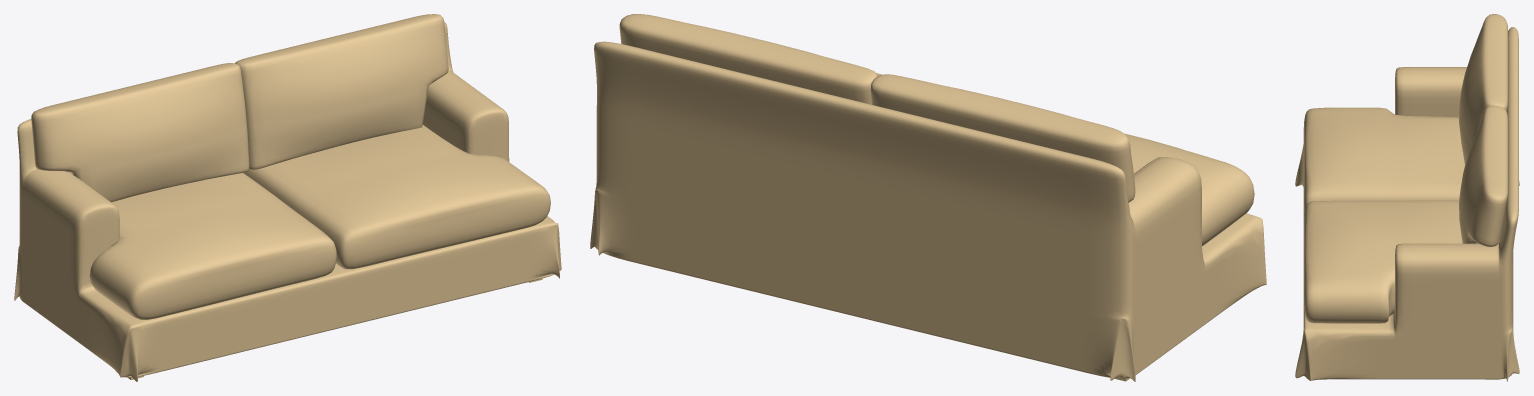
The model's file is IKEA-Ekekog_3_seat_Sofa-3D.DAE.
The picture shows the model from 3 angles, left to right: view 1: azimuth 30°, elevation 25°; view 2: azimuth 150°, elevation 25°; view 3: azimuth 270°, elevation 25°; orthographic projection. The views are drawn at different scales.
Visible parts, largest first — view 1: Box09, Box08, Box06, Box07, Box02; view 2: Box09, Box02, Box07, Box06; view 3: Box09, Box06, Box08, Box07, Box02.
Part boxes in pixels (x1=…): Box09: x1=14, y1=22, x2=561, y2=381; Box08: x1=243, y1=124, x2=550, y2=269; Box06: x1=89, y1=173, x2=336, y2=319; Box07: x1=235, y1=14, x2=448, y2=169; Box02: x1=31, y1=63, x2=249, y2=202; Box09: x1=590, y1=41, x2=1266, y2=381; Box02: x1=870, y1=74, x2=1135, y2=202; Box07: x1=619, y1=14, x2=878, y2=104; Box06: x1=1124, y1=133, x2=1254, y2=245; Box09: x1=1295, y1=27, x2=1519, y2=381; Box06: x1=1303, y1=107, x2=1464, y2=212; Box08: x1=1303, y1=200, x2=1499, y2=323; Box07: x1=1459, y1=105, x2=1507, y2=246; Box02: x1=1459, y1=14, x2=1507, y2=165.
Size of the model in its own units: 2399 by 1021 by 1136.
